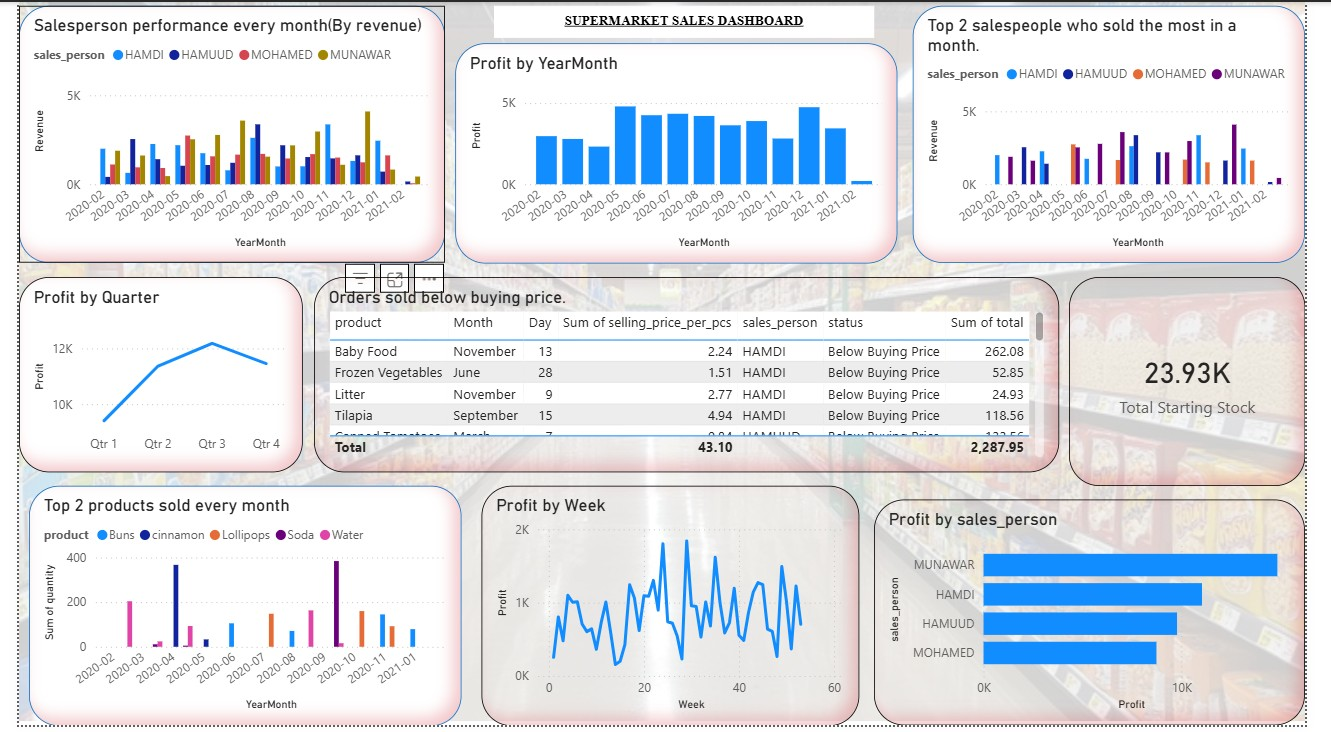

The dashboard page shown, as its layout file describes it:
{"tool":"powerbi","page":{"name":"Supermarket Sales Dashboard","canvas":[1280,720],"ordinal":0},"visuals":[{"type":"clusteredColumnChart","fields":{"Y":["supermarket sales.Profit"],"Category":["supermarket sales.YearMonth"]},"box":[434.1,41.1,440.4,218.9],"z":0},{"type":"clusteredColumnChart","title":"Salesperson performance every month(By revenue)","fields":{"Series":["supermarket sales.sales_person"],"Y":["supermarket sales.Revenue"],"Category":["supermarket sales.YearMonth"]},"box":[0,3.7,424.2,256.3],"z":1000},{"type":"clusteredColumnChart","title":"Top 2 salespeople who sold the most in a month.","fields":{"Category":["supermarket sales.YearMonth"],"Y":["supermarket sales.Revenue"],"Series":["supermarket sales.sales_person"]},"box":[889.4,3.7,390.6,256.3],"z":2000},{"type":"clusteredColumnChart","title":"Top 2 products sold every month","fields":{"Category":["supermarket sales.YearMonth"],"Y":["Sum(supermarket sales.quantity)"],"Series":["supermarket sales.product"]},"box":[10,481.4,430.4,238.8],"z":3000},{"type":"lineChart","fields":{"Category":["supermarket sales.Week"],"Y":["supermarket sales.Profit"]},"box":[460.3,481.4,375.7,238.8],"z":4000},{"type":"lineChart","fields":{"Category":["supermarket sales.order_date.Variation.Date Hierarchy.Quarter"],"Y":["supermarket sales.Profit"]},"box":[0,273.7,282.4,194.1],"z":5000},{"type":"tableEx","title":"Orders sold below buying price.","fields":{"Values":["supermarket sales.product","supermarket sales.order_date.Variation.Date Hierarchy.Month","supermarket sales.order_date.Variation.Date Hierarchy.Day","Sum(supermarket sales.selling_price_per_pcs)","supermarket sales.sales_person","supermarket sales.status","Sum(supermarket sales.total)"]},"box":[293.6,273.7,741.4,194.1],"z":6000},{"type":"card","fields":{"Values":["supermarket sales.Total Starting Stock"]},"box":[1044.9,273.7,235.1,207.7],"z":7000},{"type":"barChart","fields":{"Category":["supermarket sales.sales_person"],"Y":["supermarket sales.Profit"]},"box":[850.9,495.1,429.2,225.2],"z":8000},{"type":"textbox","box":[472.7,3.7,378.2,32.3],"z":9000}]}

Visuals, with their boxes in screenshot pixels (x1, y1, x2, y2), scaled from the page's 1280x720 canvas onto the 1331x732 screenshot:
clusteredColumnChart - supermarket sales.Profit x supermarket sales.YearMonth: bbox(451, 42, 909, 264)
"Salesperson performance every month(By revenue)" clusteredColumnChart: bbox(0, 4, 441, 264)
"Top 2 salespeople who sold the most in a month." clusteredColumnChart: bbox(925, 4, 1330, 264)
"Top 2 products sold every month" clusteredColumnChart: bbox(10, 489, 458, 731)
lineChart - supermarket sales.Week x supermarket sales.Profit: bbox(479, 489, 869, 731)
lineChart - supermarket sales.order_date.Variation.Date Hierarchy.Quarter x supermarket sales.Profit: bbox(0, 278, 294, 476)
"Orders sold below buying price." tableEx: bbox(305, 278, 1076, 476)
card - supermarket sales.Total Starting Stock: bbox(1087, 278, 1330, 489)
barChart - supermarket sales.sales_person x supermarket sales.Profit: bbox(885, 503, 1330, 731)
textbox: bbox(492, 4, 885, 37)
